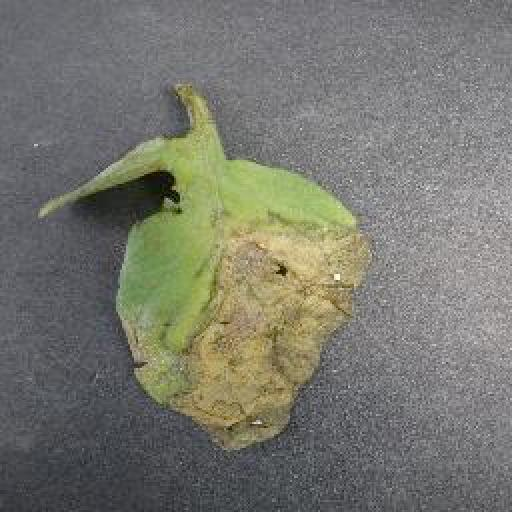disease_tomato: (116, 158, 372, 456)
